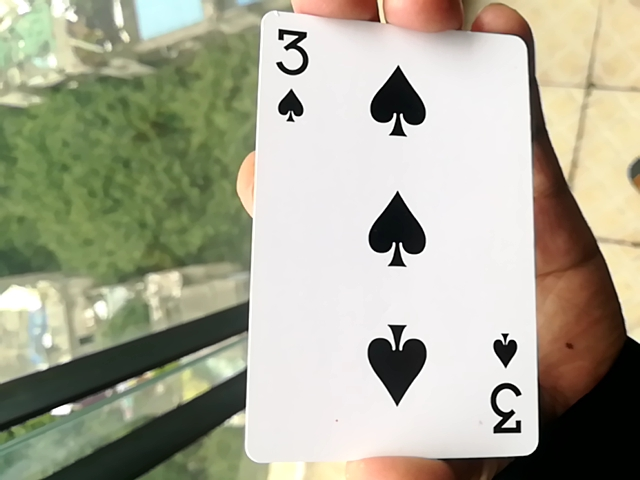ht 3: (229, 5, 542, 468)
